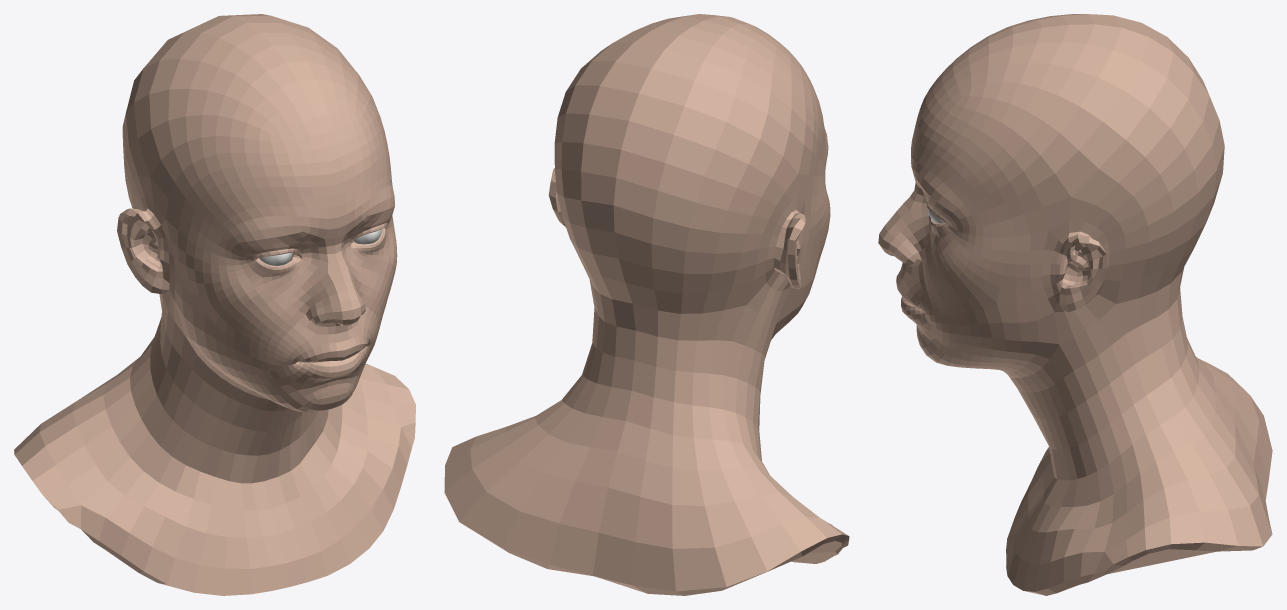
The model's file is realistic-head-animation.glb.
3 views of the same model, side by side, from view 1: azimuth 30°, elevation 25°; view 2: azimuth 150°, elevation 25°; view 3: azimuth 270°, elevation 25° (orthographic).
Parts seen in each view (by area): view 1: CC0_SOURCE_GEO-head_animation_realistic; view 2: CC0_SOURCE_GEO-head_animation_realistic; view 3: CC0_SOURCE_GEO-head_animation_realistic.
Boxes of the visible parts, bbox=[...] form: CC0_SOURCE_GEO-head_animation_realistic: bbox=[14, 14, 415, 595]; CC0_SOURCE_GEO-head_animation_realistic: bbox=[444, 14, 849, 595]; CC0_SOURCE_GEO-head_animation_realistic: bbox=[878, 14, 1272, 595].
Size of the model in its own units: 0.2737 by 0.3709 by 0.2466.
